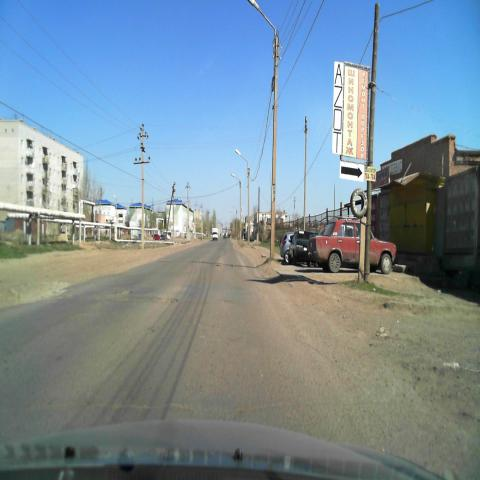8_3_1: (340, 161, 364, 182)
